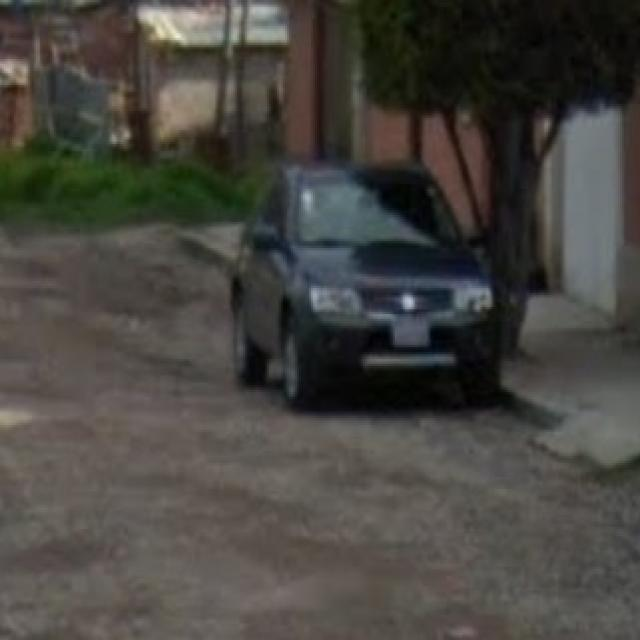Car: (227, 160, 503, 405)
